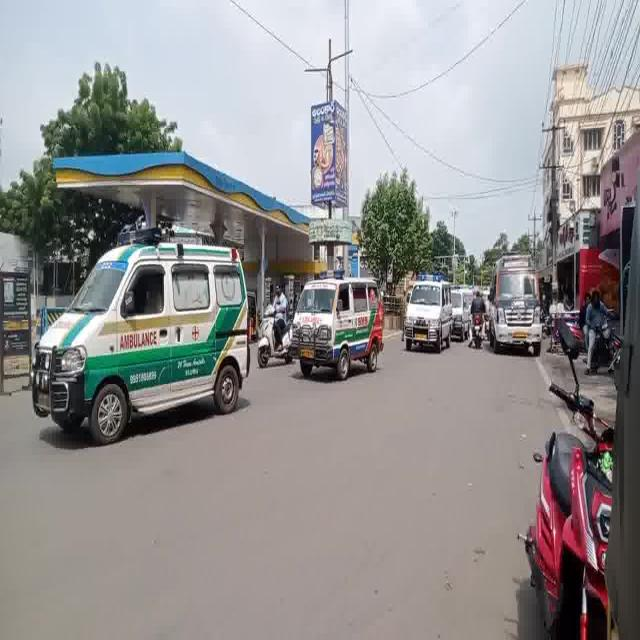ambulance: (32, 242, 254, 412), (295, 271, 382, 372), (494, 253, 544, 344), (408, 280, 452, 352)
